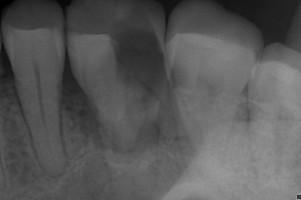Dental Caries: (61, 71, 161, 154)
